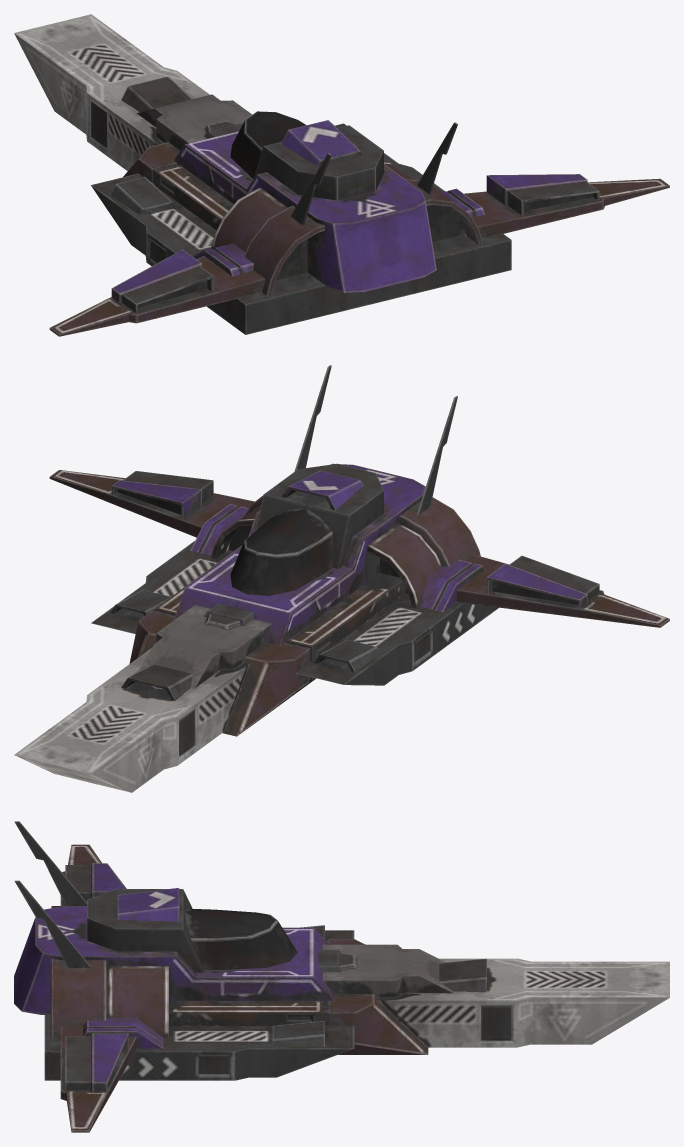
File: challenger_purple.glb
The picture shows the model from 3 angles, top to bottom: view 1: azimuth 30°, elevation 25°; view 2: azimuth 150°, elevation 25°; view 3: azimuth 270°, elevation 25°; orthographic projection. The views are drawn at different scales.
Visible parts, largest first — view 1: challenger_purple; view 2: challenger_purple; view 3: challenger_purple.
Part boxes in pixels (x1,y1,x2,y2): challenger_purple: (14, 14, 669, 336); challenger_purple: (14, 365, 669, 792); challenger_purple: (14, 821, 669, 1132).
Size of the model in its own units: 1 by 0.2878 by 0.9693.
Materials: 1 (1 with a texture image).
